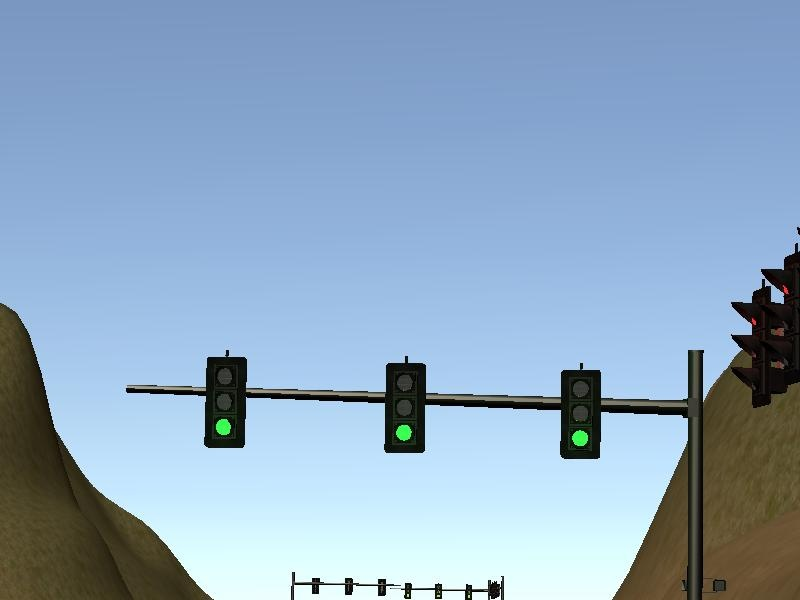green: (559, 368, 603, 458), (384, 363, 425, 454), (205, 354, 245, 446)
